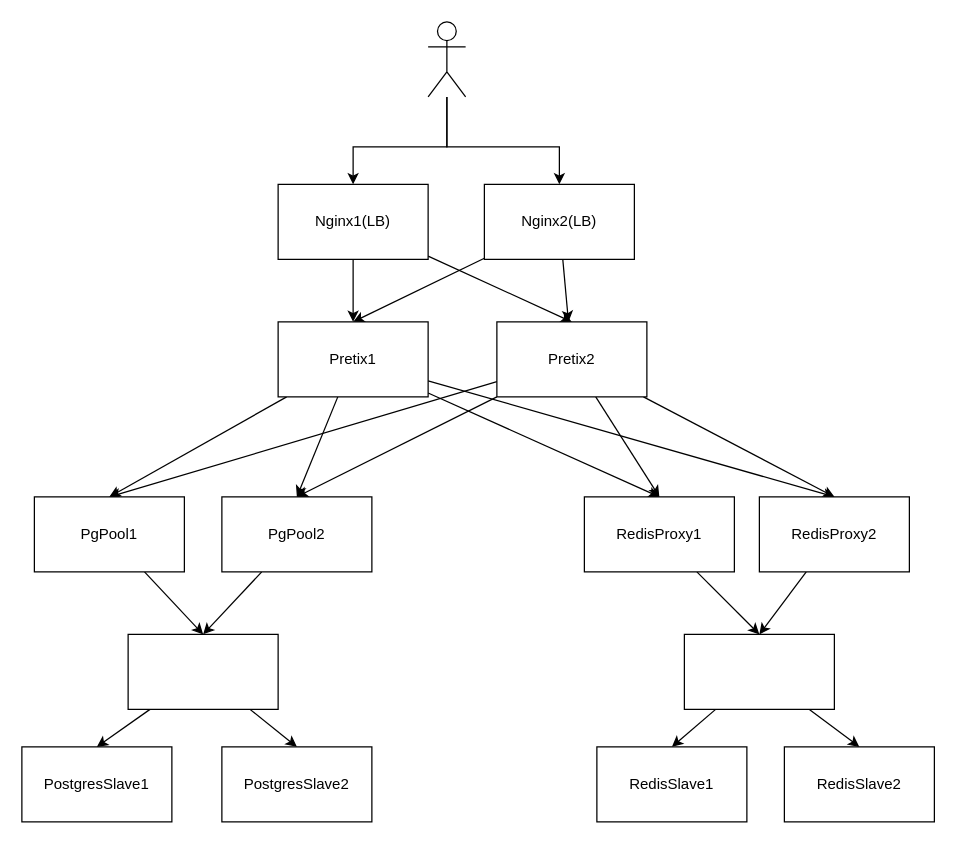
The diagram is 956 pixels wide and 844 high, and some of its shapes have lost their labels. The shapes that lost their labels are listed below. From the top down, each one's centre as x and y in pixels, then its label:
At (446,59): "User".
At (202,671): "PostgresMaster".
At (758,671): "RedisMaster".
